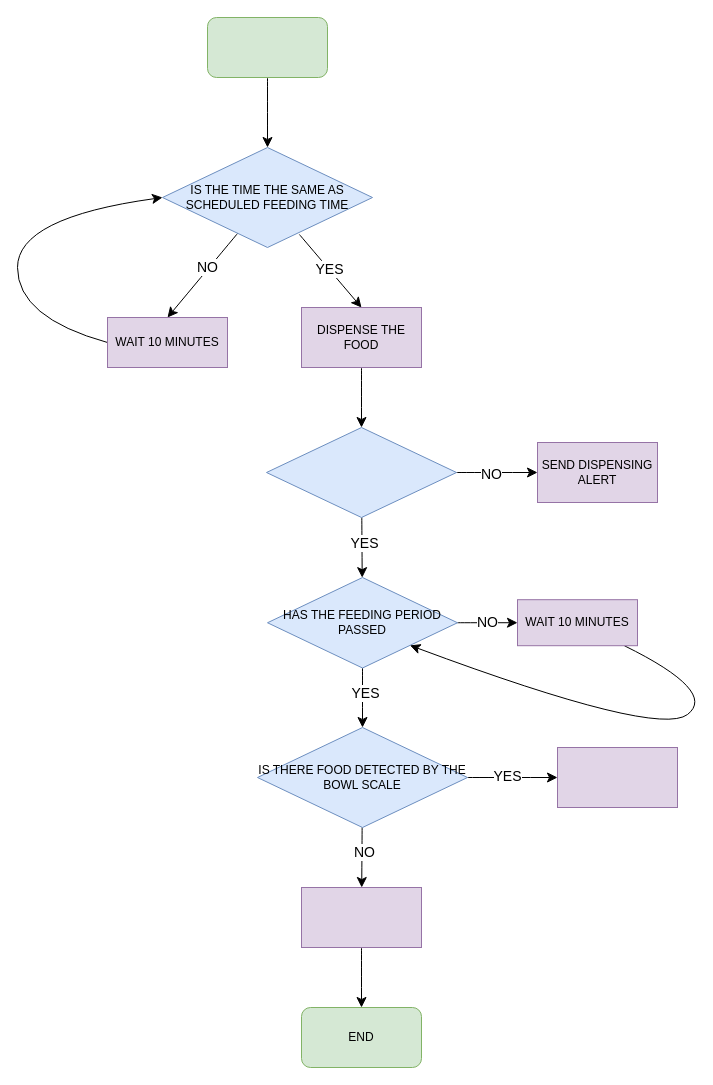
The diagram is 713 pixels wide and 1085 high, and some of its shapes have lost their labels. The shapes that lost their labels are listed below. From the top down, each one's centre as x and y in pixels, then its label:
At point 267,47: "START".
At point 361,472: "IS FOOD DETECTED BY THE SENSOR".
At point 617,777: "SEND CONSUMPTION ALERT".
At point 361,917: "SEND UPDATE MESSAGE".
